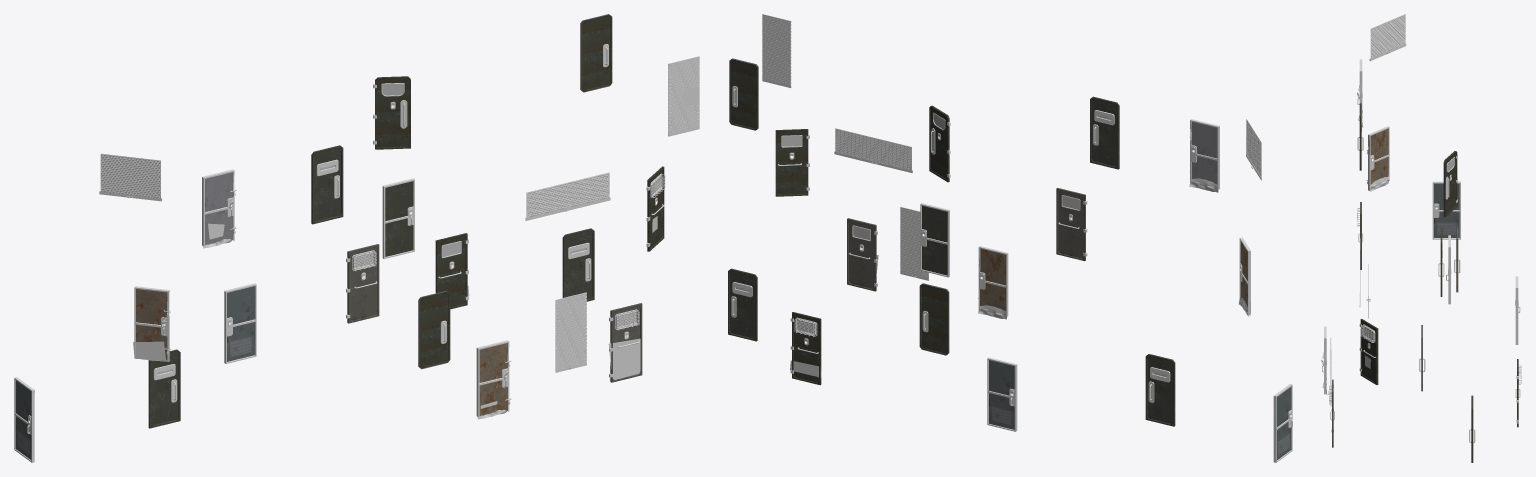
File: KB3D_FTS_BldgMdMarketplace_A door.fbx
3 views of the same model, side by side, from view 1: azimuth 30°, elevation 25°; view 2: azimuth 150°, elevation 25°; view 3: azimuth 270°, elevation 25° (orthographic). The views are drawn at different scales.
Visible parts, largest first — view 1: KB3D_FTS_BldgMdMarketplace_A_DoorL, KB3D_FTS_BldgMdMarketplace_A_DoorP, KB3D_FTS_BldgMdMarketplace_A_RollupDoorA, KB3D_FTS_BldgMdMarketplace_A_DoorO, KB3D_FTS_BldgMdMarketplace_A_DoorM, KB3D_FTS_BldgMdMarketplace_A_RollupDoorC, KB3D_FTS_BldgMdMarketplace_A_DoorQ, KB3D_FTS_BldgMdMarketplace_A_DoorJ, KB3D_FTS_BldgMdMarketplace_A_DoorK, KB3D_FTS_BldgMdMarketplace_A_DoorE, KB3D_FTS_BldgMdMarketplace_A_DoorA, KB3D_FTS_BldgMdMarketplace_A_DoorF (+8 smaller); view 2: KB3D_FTS_BldgMdMarketplace_A_DoorI, KB3D_FTS_BldgMdMarketplace_A_DoorO, KB3D_FTS_BldgMdMarketplace_A_DoorQ, KB3D_FTS_BldgMdMarketplace_A_DoorD, KB3D_FTS_BldgMdMarketplace_A_RollupDoorC, KB3D_FTS_BldgMdMarketplace_A_DoorF, KB3D_FTS_BldgMdMarketplace_A_DoorH, KB3D_FTS_BldgMdMarketplace_A_DoorM, KB3D_FTS_BldgMdMarketplace_A_DoorJ, KB3D_FTS_BldgMdMarketplace_A_DoorA, KB3D_FTS_BldgMdMarketplace_A_DoorK, KB3D_FTS_BldgMdMarketplace_A_DoorC (+8 smaller); view 3: KB3D_FTS_BldgMdMarketplace_A_DoorP, KB3D_FTS_BldgMdMarketplace_A_DoorN, KB3D_FTS_BldgMdMarketplace_A_RollupDoorA, KB3D_FTS_BldgMdMarketplace_A_DoorI, KB3D_FTS_BldgMdMarketplace_A_DoorL, KB3D_FTS_BldgMdMarketplace_A_DoorO, KB3D_FTS_BldgMdMarketplace_A_DoorE, KB3D_FTS_BldgMdMarketplace_A_DoorC, KB3D_FTS_BldgMdMarketplace_A_DoorD, KB3D_FTS_BldgMdMarketplace_A_DoorG, KB3D_FTS_BldgMdMarketplace_A_DoorA, KB3D_FTS_BldgMdMarketplace_A_DoorJ (+3 smaller).
Boxes of the visible parts, x1,y1,x2,y2 form: KB3D_FTS_BldgMdMarketplace_A_DoorL: [373, 76, 410, 149]; KB3D_FTS_BldgMdMarketplace_A_DoorP: [133, 286, 169, 361]; KB3D_FTS_BldgMdMarketplace_A_RollupDoorA: [99, 153, 161, 201]; KB3D_FTS_BldgMdMarketplace_A_DoorO: [224, 283, 256, 363]; KB3D_FTS_BldgMdMarketplace_A_DoorM: [382, 178, 414, 258]; KB3D_FTS_BldgMdMarketplace_A_RollupDoorC: [525, 172, 610, 220]; KB3D_FTS_BldgMdMarketplace_A_DoorQ: [476, 340, 509, 419]; KB3D_FTS_BldgMdMarketplace_A_DoorJ: [608, 303, 642, 382]; KB3D_FTS_BldgMdMarketplace_A_DoorK: [346, 244, 379, 323]; KB3D_FTS_BldgMdMarketplace_A_DoorE: [311, 145, 343, 224]; KB3D_FTS_BldgMdMarketplace_A_DoorA: [202, 169, 234, 248]; KB3D_FTS_BldgMdMarketplace_A_DoorF: [418, 290, 450, 369]; KB3D_FTS_BldgMdMarketplace_A_DoorI: [775, 129, 809, 196]; KB3D_FTS_BldgMdMarketplace_A_DoorO: [987, 357, 1017, 431]; KB3D_FTS_BldgMdMarketplace_A_DoorQ: [978, 246, 1008, 319]; KB3D_FTS_BldgMdMarketplace_A_DoorD: [1145, 354, 1175, 426]; KB3D_FTS_BldgMdMarketplace_A_RollupDoorC: [834, 128, 912, 173]; KB3D_FTS_BldgMdMarketplace_A_DoorF: [919, 283, 949, 355]; KB3D_FTS_BldgMdMarketplace_A_DoorH: [790, 312, 821, 385]; KB3D_FTS_BldgMdMarketplace_A_DoorM: [920, 203, 949, 277]; KB3D_FTS_BldgMdMarketplace_A_DoorJ: [847, 218, 878, 291]; KB3D_FTS_BldgMdMarketplace_A_DoorA: [1189, 119, 1219, 192]; KB3D_FTS_BldgMdMarketplace_A_DoorK: [1056, 188, 1087, 261]; KB3D_FTS_BldgMdMarketplace_A_DoorC: [728, 268, 757, 341]; KB3D_FTS_BldgMdMarketplace_A_DoorP: [1368, 126, 1389, 191]; KB3D_FTS_BldgMdMarketplace_A_DoorN: [1432, 181, 1460, 239]; KB3D_FTS_BldgMdMarketplace_A_RollupDoorA: [1369, 14, 1406, 61]; KB3D_FTS_BldgMdMarketplace_A_DoorI: [1359, 319, 1378, 384]; KB3D_FTS_BldgMdMarketplace_A_DoorL: [1443, 151, 1457, 217]; KB3D_FTS_BldgMdMarketplace_A_DoorO: [1515, 276, 1520, 344]; KB3D_FTS_BldgMdMarketplace_A_DoorE: [1357, 103, 1363, 170]; KB3D_FTS_BldgMdMarketplace_A_DoorC: [1469, 395, 1475, 462]; KB3D_FTS_BldgMdMarketplace_A_DoorD: [1438, 229, 1444, 296]; KB3D_FTS_BldgMdMarketplace_A_DoorG: [1454, 226, 1460, 292]; KB3D_FTS_BldgMdMarketplace_A_DoorA: [1357, 59, 1363, 127]; KB3D_FTS_BldgMdMarketplace_A_DoorJ: [1328, 379, 1334, 447].
Bounding box in the file's own units: 20.2 × 9.6 × 7.13.
